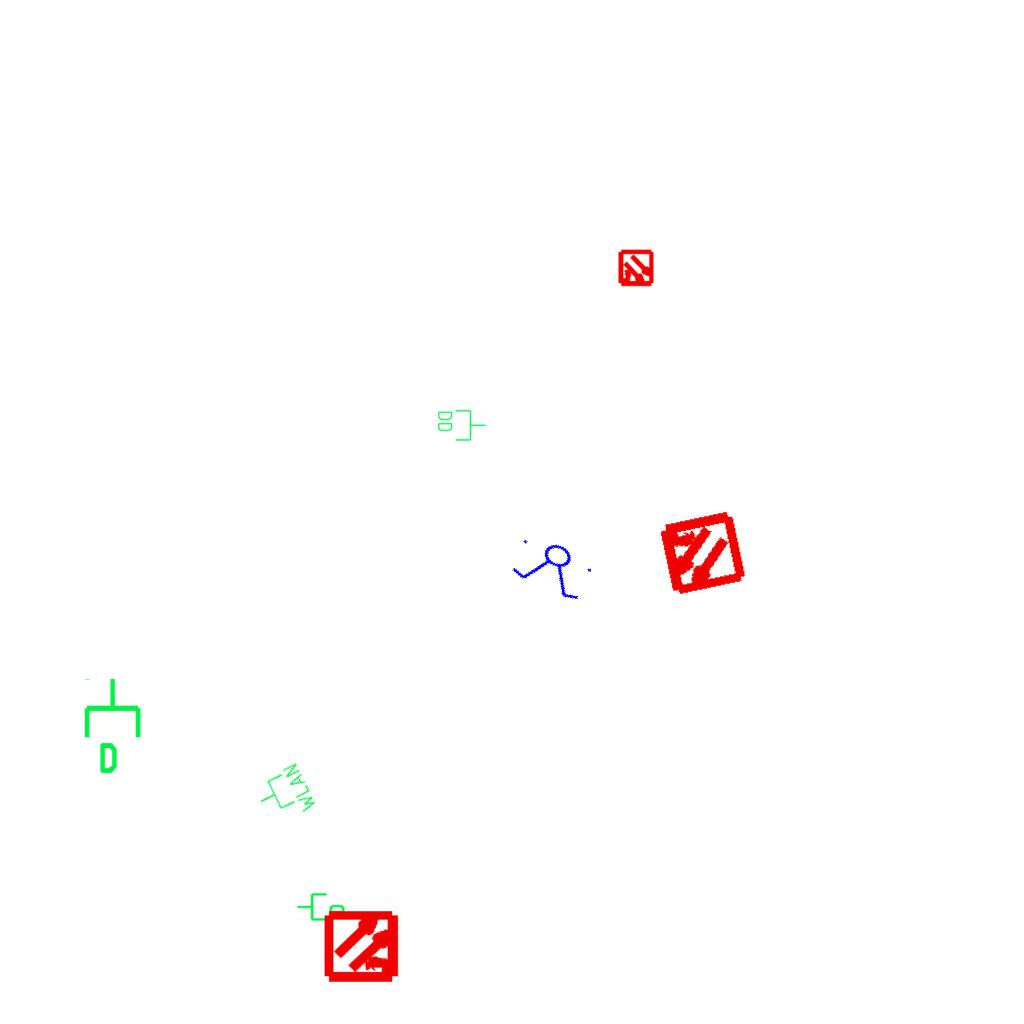Datenanschluss_einfach: (80, 676, 149, 776), (296, 889, 346, 923)
Datenanschluss_zweifach: (436, 408, 487, 442)
OT_Multisensormelder_(Kombination_RMO_WMD): (633, 486, 768, 621), (307, 890, 420, 1003), (608, 241, 664, 297)
Serienschalter: (504, 528, 602, 608)
WLAN: (250, 760, 320, 830)
